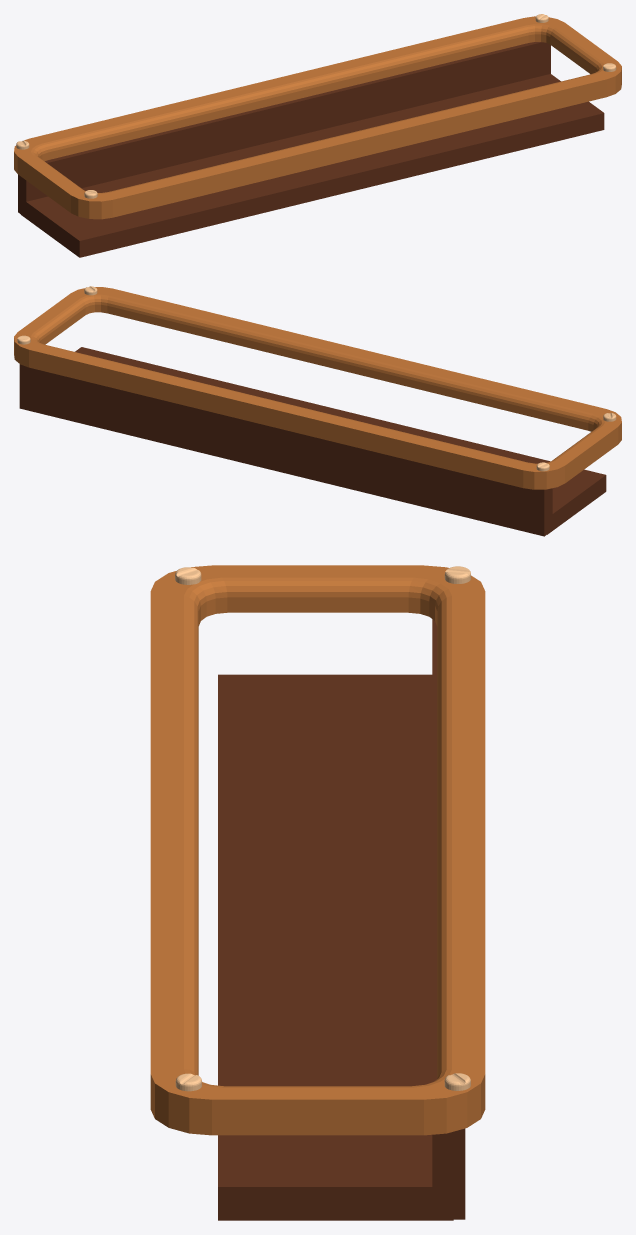
File: TilePlace.fbx
3 renders of one model, top to bottom at view 1: azimuth 30°, elevation 25°; view 2: azimuth 150°, elevation 25°; view 3: azimuth 270°, elevation 25°, orthographic. The views are drawn at different scales.
Parts seen in each view (by area): view 1: Cube_5, Cube, Cube_2; view 2: Cube_5, Cube_2, Cube; view 3: Cube, Cube_5, Cube_2.
Boxes of the visible parts, bbox=[...] form: Cube_5: bbox=[14, 16, 621, 219]; Cube: bbox=[20, 74, 604, 257]; Cube_2: bbox=[18, 42, 550, 217]; Cube_5: bbox=[14, 287, 621, 489]; Cube_2: bbox=[19, 364, 552, 536]; Cube: bbox=[75, 347, 606, 534]; Cube: bbox=[218, 674, 453, 1220]; Cube_5: bbox=[150, 565, 485, 1135]; Cube_2: bbox=[432, 619, 465, 1219].
Bounding box in the file's own units: 1343 × 165 × 356.
